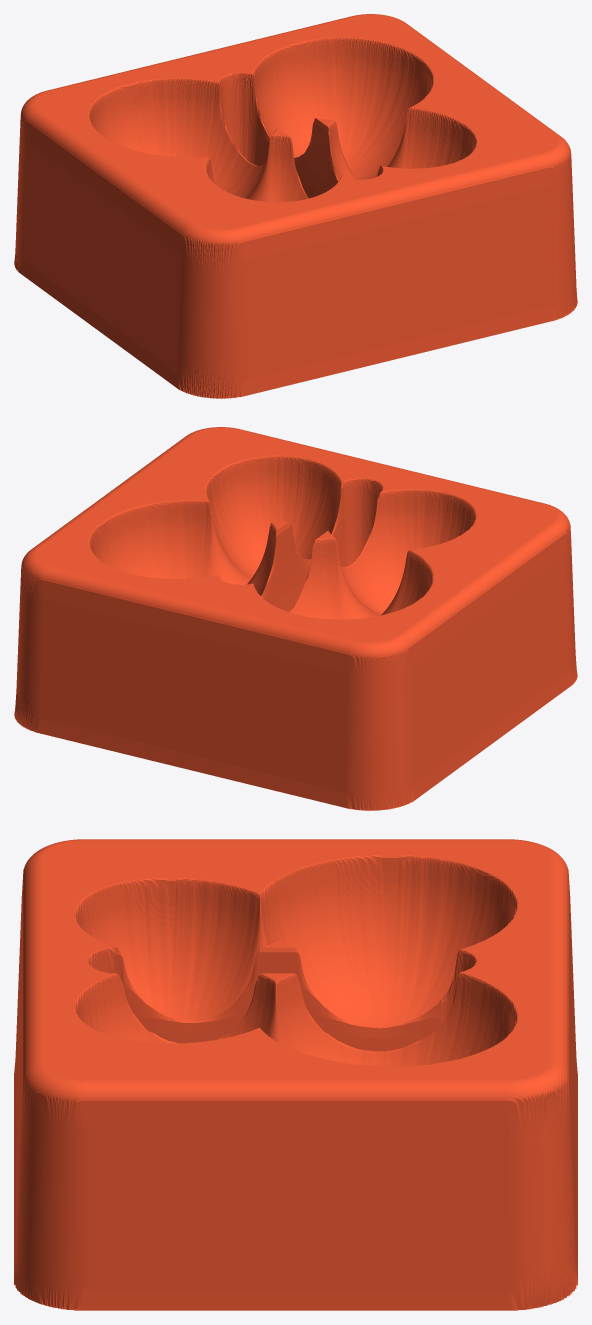
Rendered from mold.glb.
3 views of the same model, one above another, from view 1: azimuth 30°, elevation 25°; view 2: azimuth 150°, elevation 25°; view 3: azimuth 270°, elevation 25° (orthographic). The views are drawn at different scales.
Visible parts, largest first — view 1: geometry_0; view 2: geometry_0; view 3: geometry_0.
Part boxes in pixels (bbox=[...]): geometry_0: bbox=[14, 14, 577, 398]; geometry_0: bbox=[14, 427, 577, 810]; geometry_0: bbox=[14, 839, 577, 1310].
Bounding box in the file's own units: 0.0798 × 0.031 × 0.0724.
